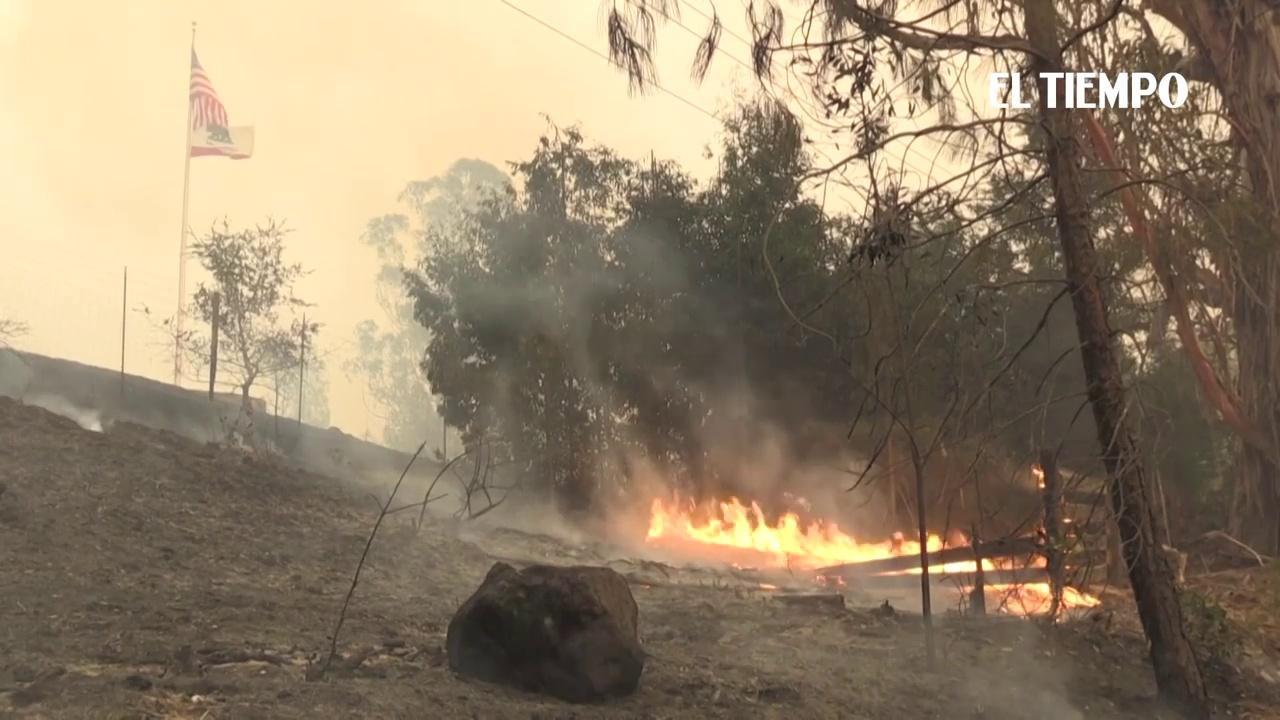Fire: (656, 491, 996, 573), (999, 582, 1098, 617)
